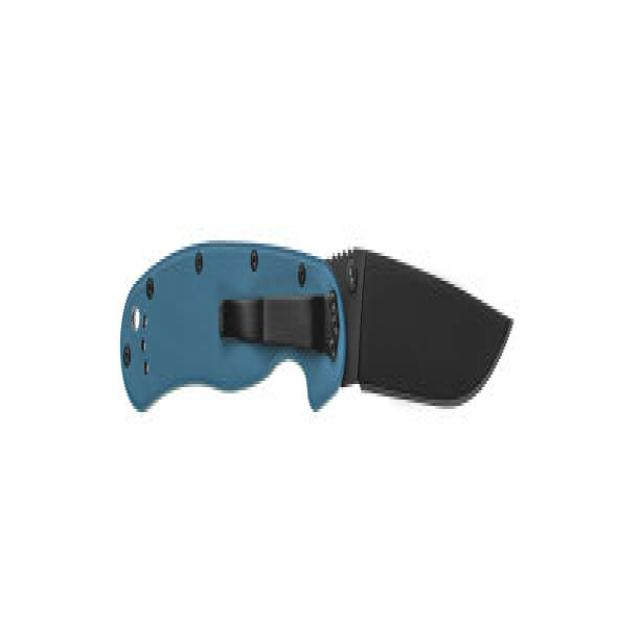knife: (121, 237, 518, 445)
